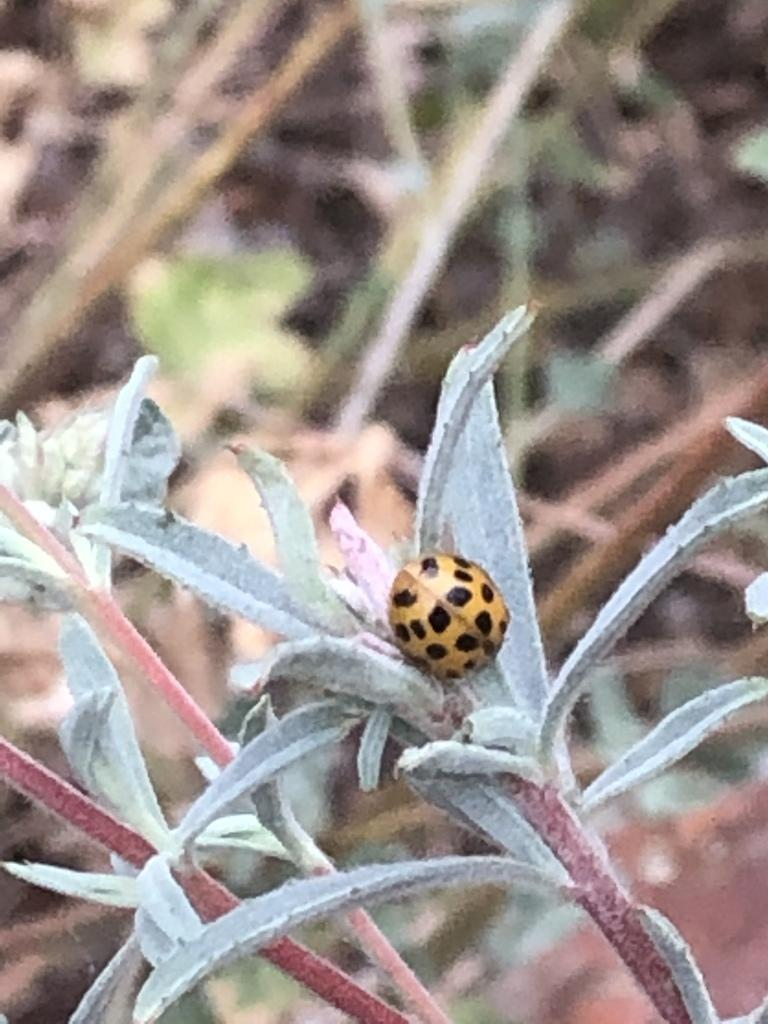ladybug: (381, 551, 519, 686)
